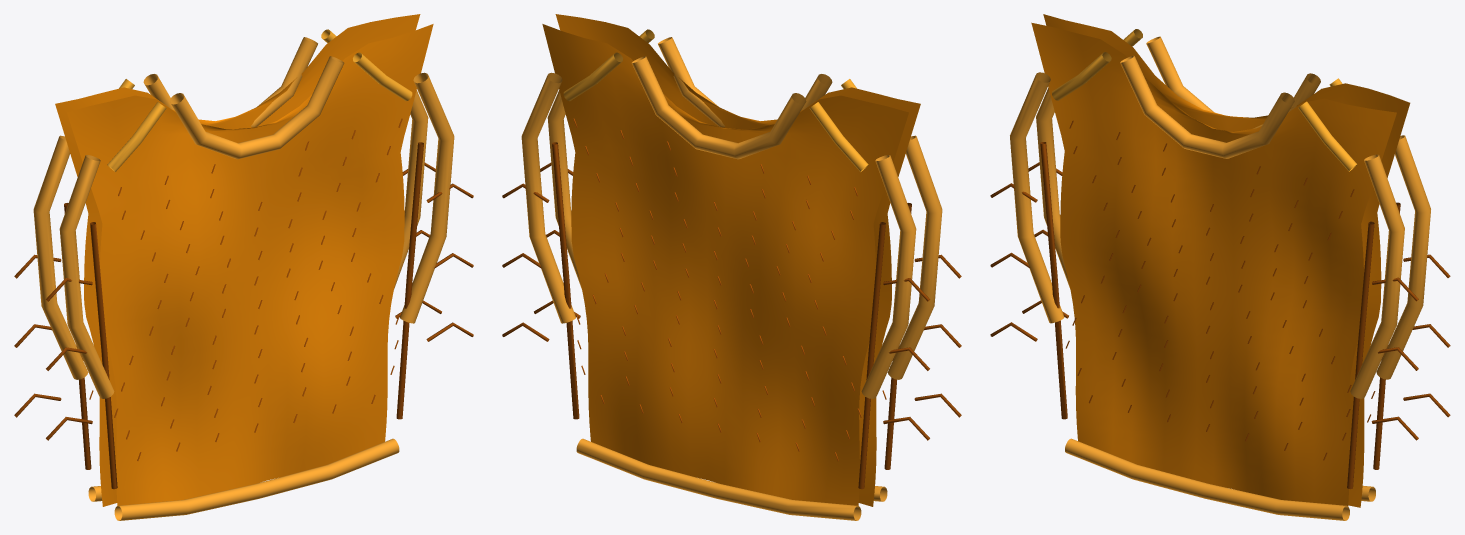
The model's file is Leibchen_3D_v2.glb.
The picture shows the model from 3 angles, left to right: view 1: azimuth 30°, elevation 25°; view 2: azimuth 150°, elevation 25°; view 3: azimuth 330°, elevation 25°; orthographic projection.
Parts seen in each view (by area): view 1: Leibchen_3D_v2__web_fluorescent_orange_training_bib_mesh_clo, Leibchen_3D_v2__web_raised_glossy_orange_bib_seam_binding, Leibchen_3D_v2__web_deep_orange_bib_inner_shadow, Leibchen_3D_v2__web_v2_extra_glossy_bib_shoulder_seam_bindin, Leibchen_3D_v2__web_darker_orange_breathable_bib_perforation; view 2: Leibchen_3D_v2__web_fluorescent_orange_training_bib_mesh_clo, Leibchen_3D_v2__web_raised_glossy_orange_bib_seam_binding, Leibchen_3D_v2__web_deep_orange_bib_inner_shadow, Leibchen_3D_v2__web_v2_extra_glossy_bib_shoulder_seam_bindin, Leibchen_3D_v2__web_darker_orange_breathable_bib_perforation; view 3: Leibchen_3D_v2__web_fluorescent_orange_training_bib_mesh_clo, Leibchen_3D_v2__web_raised_glossy_orange_bib_seam_binding, Leibchen_3D_v2__web_deep_orange_bib_inner_shadow, Leibchen_3D_v2__web_v2_extra_glossy_bib_shoulder_seam_bindin, Leibchen_3D_v2__web_darker_orange_breathable_bib_perforation.
Part boxes in pixels (left/top/right/bottom): Leibchen_3D_v2__web_fluorescent_orange_training_bib_mesh_clo: left=55, top=14, right=433, bottom=506; Leibchen_3D_v2__web_raised_glossy_orange_bib_seam_binding: left=33, top=37, right=454, bottom=520; Leibchen_3D_v2__web_deep_orange_bib_inner_shadow: left=14, top=142, right=473, bottom=489; Leibchen_3D_v2__web_v2_extra_glossy_bib_shoulder_seam_bindin: left=107, top=29, right=412, bottom=171; Leibchen_3D_v2__web_darker_orange_breathable_bib_perforation: left=89, top=118, right=402, bottom=460; Leibchen_3D_v2__web_fluorescent_orange_training_bib_mesh_clo: left=542, top=14, right=920, bottom=506; Leibchen_3D_v2__web_raised_glossy_orange_bib_seam_binding: left=521, top=37, right=942, bottom=520; Leibchen_3D_v2__web_deep_orange_bib_inner_shadow: left=502, top=142, right=961, bottom=489; Leibchen_3D_v2__web_v2_extra_glossy_bib_shoulder_seam_bindin: left=563, top=29, right=868, bottom=171; Leibchen_3D_v2__web_darker_orange_breathable_bib_perforation: left=573, top=118, right=886, bottom=460; Leibchen_3D_v2__web_fluorescent_orange_training_bib_mesh_clo: left=1031, top=14, right=1410, bottom=507; Leibchen_3D_v2__web_raised_glossy_orange_bib_seam_binding: left=1010, top=36, right=1430, bottom=520; Leibchen_3D_v2__web_deep_orange_bib_inner_shadow: left=990, top=142, right=1450, bottom=489; Leibchen_3D_v2__web_v2_extra_glossy_bib_shoulder_seam_bindin: left=1052, top=29, right=1357, bottom=171; Leibchen_3D_v2__web_darker_orange_breathable_bib_perforation: left=1065, top=120, right=1375, bottom=460.
Size of the model in its own units: 1.09 by 1.04 by 0.166.
